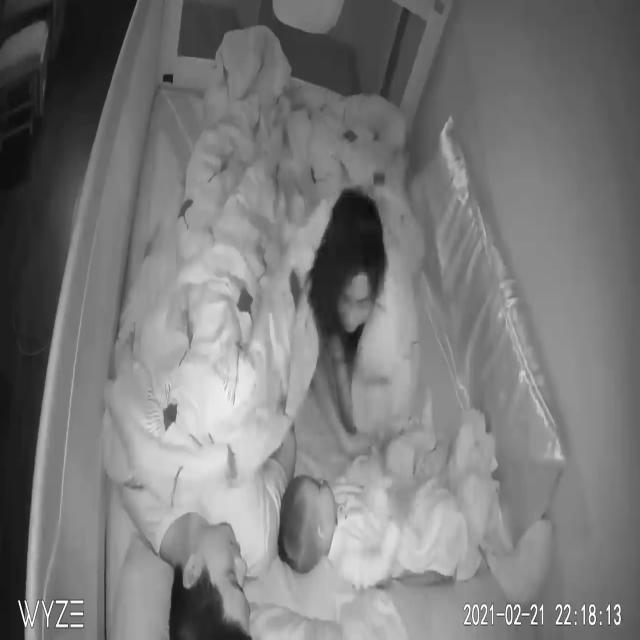baby: (280, 378, 458, 592)
